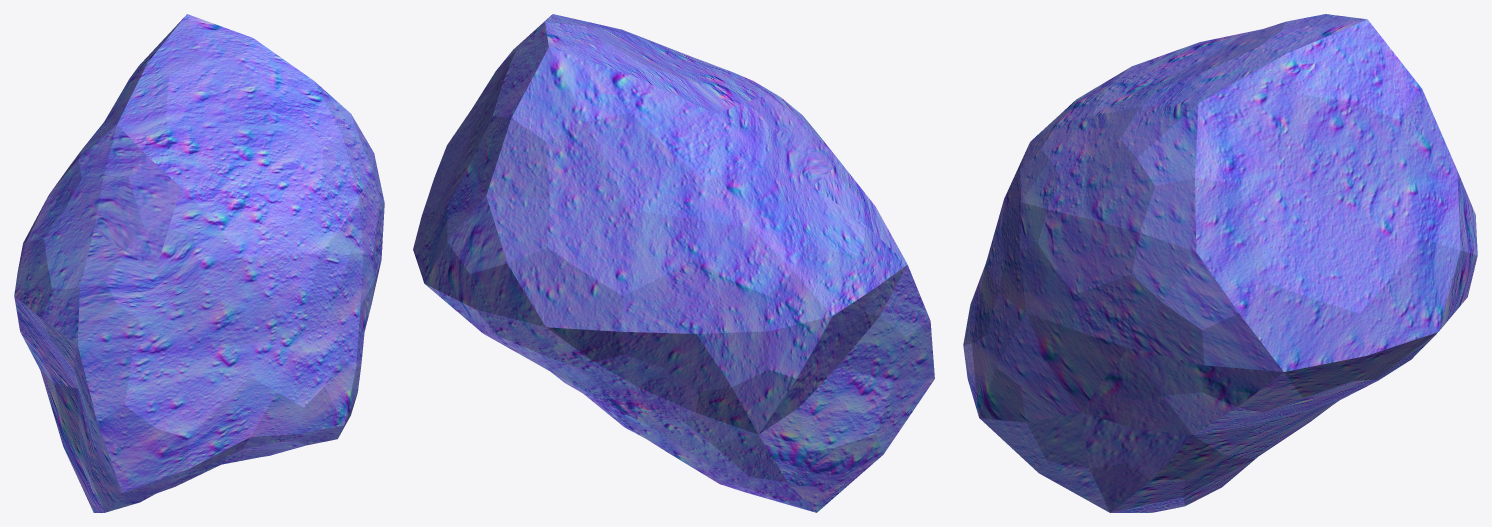
Rendered from mediumasteroid3_LOD3.fbx.
The picture shows the model from 3 angles, left to right: view 1: azimuth 30°, elevation 25°; view 2: azimuth 150°, elevation 25°; view 3: azimuth 270°, elevation 25°; orthographic projection. The views are drawn at different scales.
Visible parts, largest first — view 1: Icosphere; view 2: Icosphere; view 3: Icosphere.
Part boxes in pixels (x1=…): Icosphere: x1=14, y1=14, x2=384, y2=512; Icosphere: x1=413, y1=14, x2=934, y2=512; Icosphere: x1=963, y1=14, x2=1477, y2=512.
Bounding box in the file's own units: 250 × 276 × 242.
